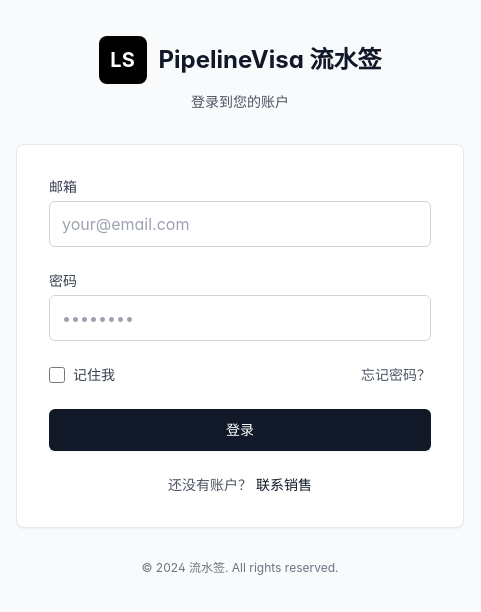
Test: LoginPage › shows validation error for invalid email
This screenshot has width=481, height=612.
Type "invalid-email" into the field labelled "邮箱" at (240, 224), box [49, 201, 431, 247]
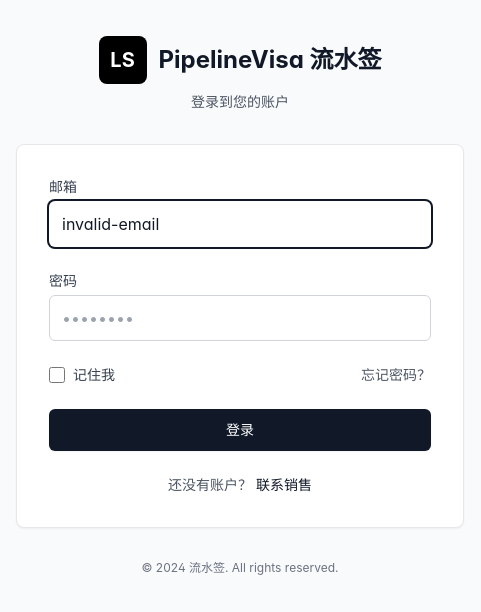
Click the button "登录" at (240, 430), box [49, 409, 431, 451]
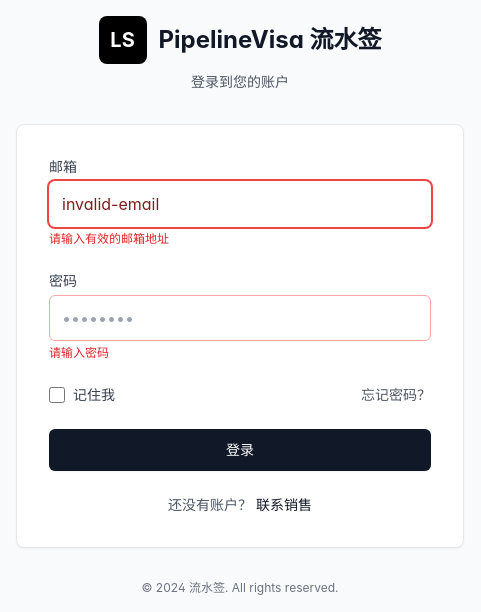
Check: the text "请输入有效的邮箱地址" is shown, box [49, 231, 169, 246]
